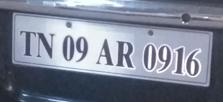0: (139, 41, 157, 74), (61, 34, 75, 61)
1: (172, 45, 186, 77)
6: (186, 47, 204, 79)
9: (156, 45, 173, 76), (75, 35, 89, 66)
A: (95, 37, 115, 69)
N: (36, 32, 55, 59)
R: (116, 36, 140, 71)
T: (16, 26, 36, 58)
